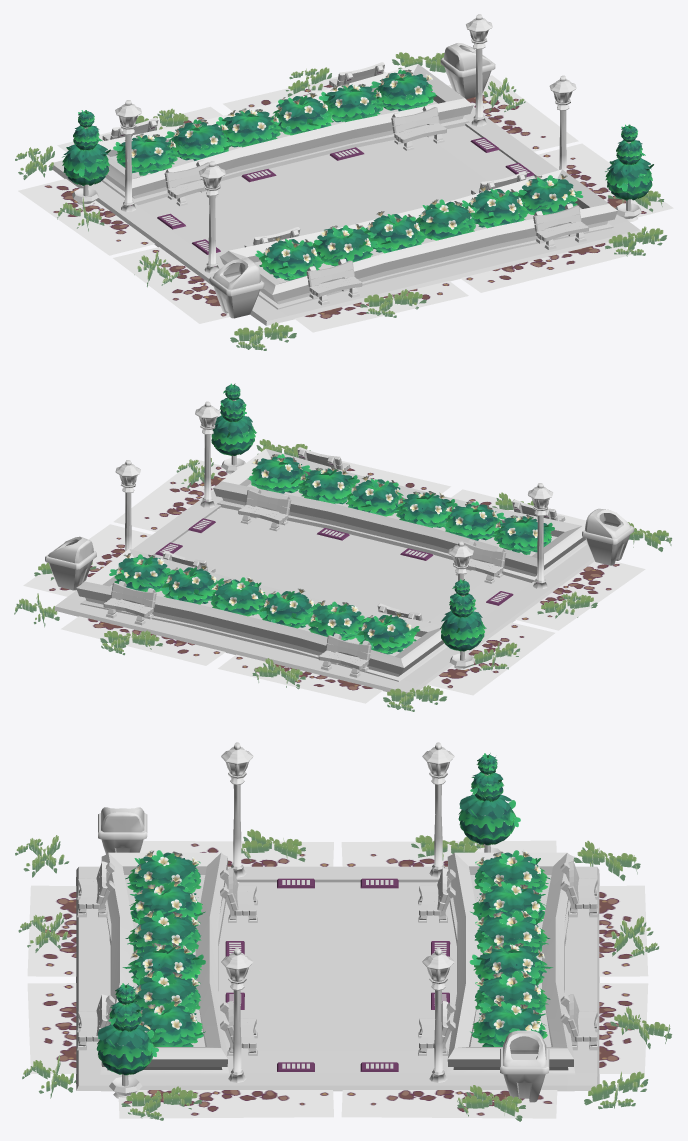
File: taman_1.fbx
The picture shows the model from 3 angles, top to bottom: view 1: azimuth 30°, elevation 25°; view 2: azimuth 150°, elevation 25°; view 3: azimuth 270°, elevation 25°; orthographic projection. The views are drawn at different scales.
Parts seen in each view (by area): view 1: Plane.015, Cube.006, Cube.001, TEX_DEKOR.002, rumput.001, Cube.012, bench.001, bench.003, Sphere.007, Sphere.004, Cube.013, Cube.014 (+1 smaller); view 2: Plane.015, Cube.006, Cube.001, TEX_DEKOR.002, rumput.001, bench.001, Cube.012, bench.003, Sphere.007, Sphere.004, Cube.013, Cube.014 (+1 smaller); view 3: Plane.015, TEX_DEKOR.002, Cube.006, Cube.001, rumput.001, Cube.012, bench.001, bench.003, Sphere.004, Sphere.007, Cube.014, Plane.018 (+1 smaller).
Boxes of the visible parts, bbox=[...] form: Plane.015: bbox=[48, 107, 641, 325]; Cube.006: bbox=[113, 69, 583, 280]; Cube.001: bbox=[98, 64, 617, 309]; TEX_DEKOR.002: bbox=[18, 71, 673, 332]; rumput.001: bbox=[15, 52, 667, 350]; Cube.012: bbox=[115, 14, 576, 273]; bench.001: bbox=[102, 62, 588, 305]; bench.003: bbox=[164, 105, 526, 247]; Sphere.007: bbox=[62, 110, 110, 185]; Sphere.004: bbox=[605, 124, 653, 200]; Cube.013: bbox=[209, 258, 264, 318]; Cube.014: bbox=[440, 43, 495, 99]; Plane.015: bbox=[54, 490, 594, 693]; Cube.006: bbox=[109, 454, 554, 654]; Cube.001: bbox=[76, 448, 586, 681]; TEX_DEKOR.002: bbox=[23, 459, 645, 703]; rumput.001: bbox=[14, 439, 672, 711]; bench.001: bbox=[103, 447, 565, 677]; Cube.012: bbox=[115, 401, 553, 589]; bench.003: bbox=[162, 487, 506, 622]; Sphere.007: bbox=[440, 579, 486, 651]; Sphere.004: bbox=[211, 383, 256, 455]; Cube.013: bbox=[582, 508, 633, 565]; Cube.014: bbox=[45, 536, 96, 590]; Plane.015: bbox=[76, 866, 599, 1091]; TEX_DEKOR.002: bbox=[27, 840, 648, 1118]; Cube.006: bbox=[122, 850, 553, 1046]; Cube.001: bbox=[100, 852, 575, 1075]; rumput.001: bbox=[15, 829, 672, 1121]; Cube.012: bbox=[221, 742, 454, 1082]; bench.001: bbox=[77, 861, 598, 1050]; bench.003: bbox=[220, 868, 455, 1055]; Sphere.004: bbox=[96, 983, 158, 1075]; Sphere.007: bbox=[458, 753, 520, 845]; Cube.014: bbox=[500, 1030, 549, 1102]; Plane.018: bbox=[225, 878, 450, 1071].
Bounding box in the file's own units: 2320 × 536 × 2299.
